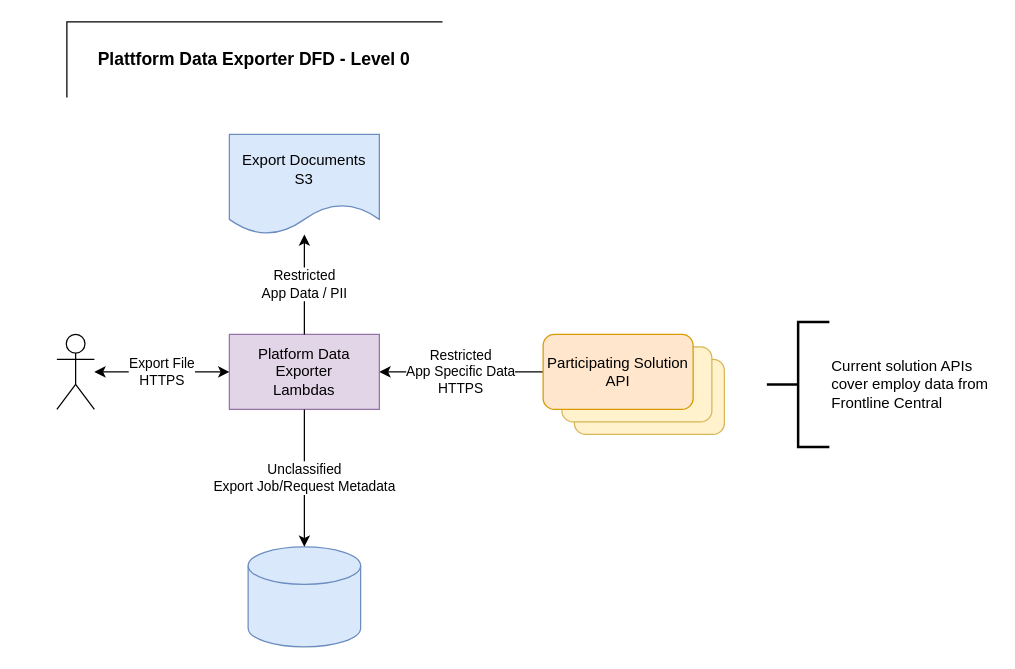
The diagram is 1015 pixels wide and 669 high, and some of its shapes have lost their labels. The shapes that lost their labels are listed below. From the top down, each one's centre as x and y in pixels, then its label:
At (75,371): "Authorized User".
At (304,596): "Export Management".
